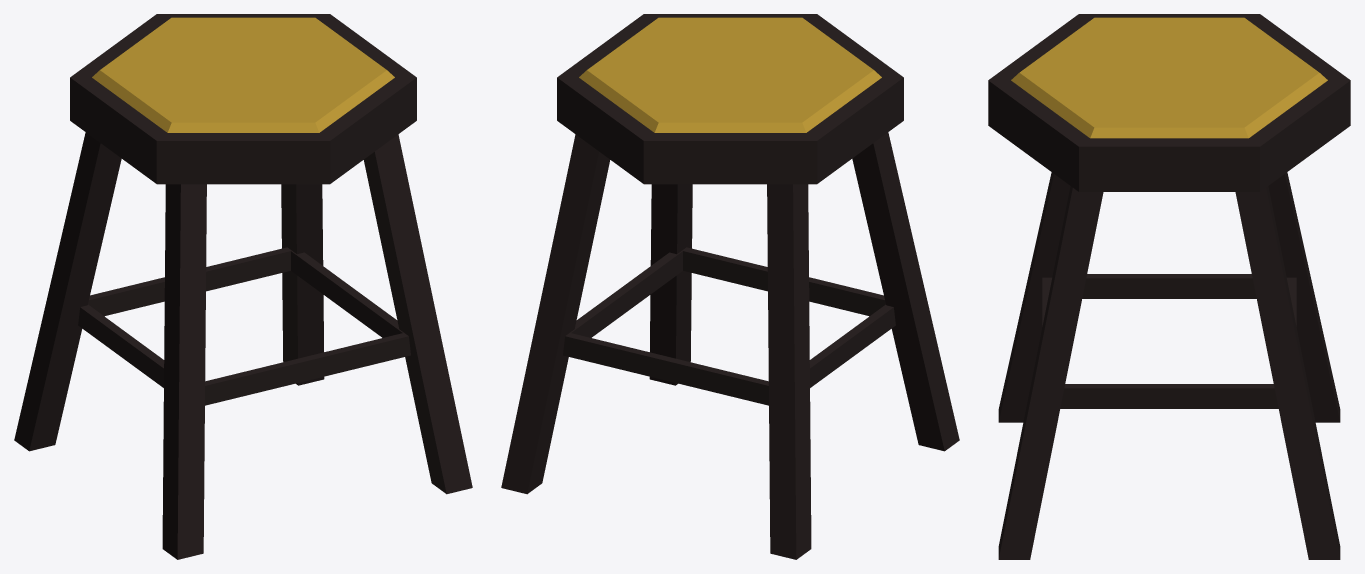
File: Stool.fbx
3 views of the same model, side by side, from view 1: azimuth 30°, elevation 25°; view 2: azimuth 150°, elevation 25°; view 3: azimuth 270°, elevation 25° (orthographic). The views are drawn at different scales.
Parts seen in each view (by area): view 1: Cube.016, Cylinder, Cube.017; view 2: Cube.016, Cylinder, Cube.017; view 3: Cylinder, Cube.016, Cube.017.
Part boxes in pixels (x1,y1,x2,y2): Cube.016: [14, 132, 472, 559]; Cylinder: [70, 14, 416, 184]; Cube.017: [78, 247, 410, 405]; Cube.016: [501, 132, 959, 559]; Cylinder: [557, 14, 903, 184]; Cube.017: [563, 247, 895, 405]; Cylinder: [988, 14, 1350, 191]; Cube.016: [998, 172, 1340, 559]; Cube.017: [1042, 274, 1296, 408].
Size of the model in its own units: 197 by 251 by 200.
